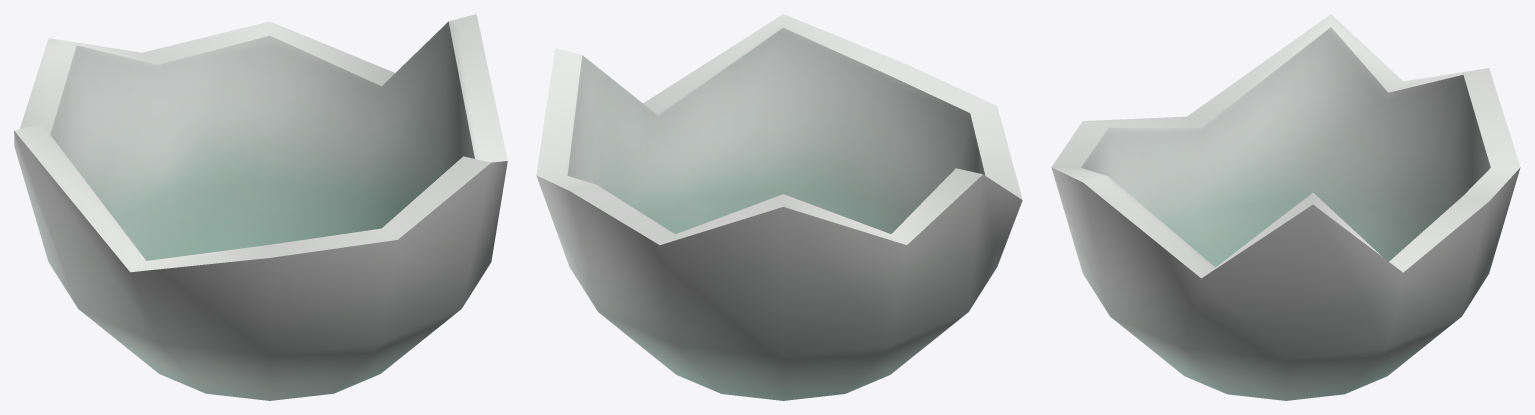
File: EggFBX.FBX
3 renders of one model, left to right at view 1: azimuth 30°, elevation 25°; view 2: azimuth 150°, elevation 25°; view 3: azimuth 270°, elevation 25°, orthographic. The views are drawn at different scales.
Visible parts, largest first — view 1: EggMesh; view 2: EggMesh; view 3: EggMesh.
Part boxes in pixels (bbox=[...]): EggMesh: bbox=[14, 14, 507, 400]; EggMesh: bbox=[536, 14, 1022, 400]; EggMesh: bbox=[1051, 14, 1520, 400].
Bounding box in the file's own units: 142 × 89.43 × 139.
Materials: 1 (1 with a texture image).
